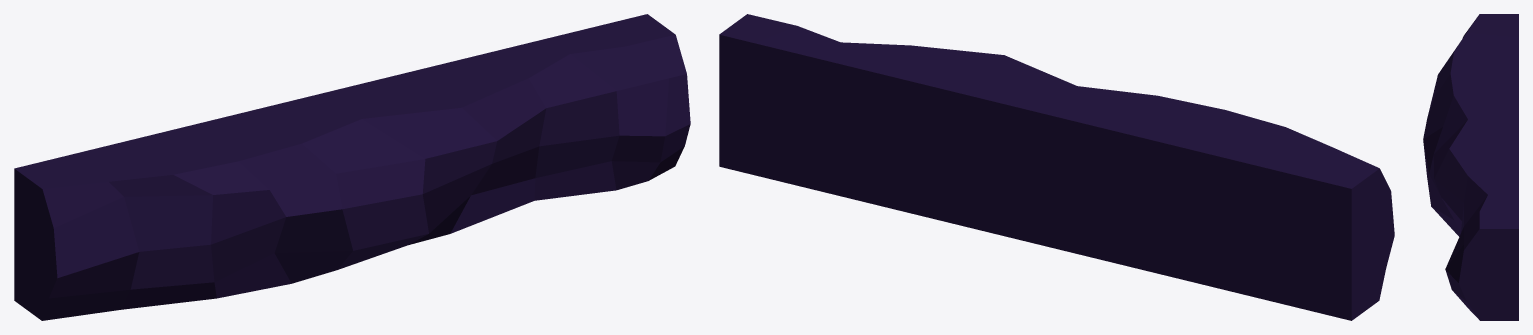
File: cave_wall_bottom_001_msh.fbx
3 renders of one model, left to right at view 1: azimuth 30°, elevation 25°; view 2: azimuth 150°, elevation 25°; view 3: azimuth 270°, elevation 25°, orthographic. The views are drawn at different scales.
Parts seen in each view (by area): view 1: cave_wall_bottom_001_msh; view 2: cave_wall_bottom_001_msh; view 3: cave_wall_bottom_001_msh.
Part boxes in pixels (<box>): cave_wall_bottom_001_msh: <box>14,14,690,320</box>; cave_wall_bottom_001_msh: <box>719,14,1394,320</box>; cave_wall_bottom_001_msh: <box>1423,14,1518,320</box>.
Bounding box in the file's own units: 2000 × 400 × 376.
